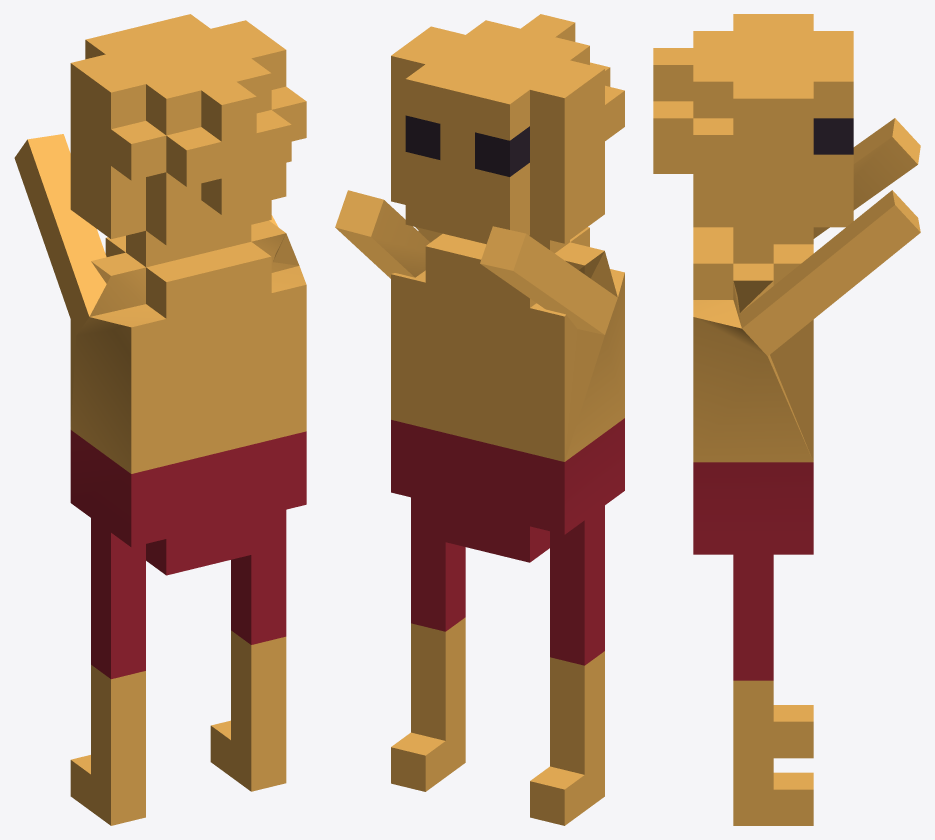
Rendered from human-reeling.fbx.
3 views of the same model, side by side, from view 1: azimuth 30°, elevation 25°; view 2: azimuth 150°, elevation 25°; view 3: azimuth 270°, elevation 25° (orthographic).
Visible parts, largest first — view 1: ObjObject.003; view 2: ObjObject.003; view 3: ObjObject.003.
Part boxes in pixels (bbox=[...]): ObjObject.003: bbox=[14, 14, 306, 825]; ObjObject.003: bbox=[335, 14, 624, 825]; ObjObject.003: bbox=[653, 14, 920, 825].
Bounding box in the file's own units: 59.96 × 200 × 66.7.
1 material, 1 textured.
